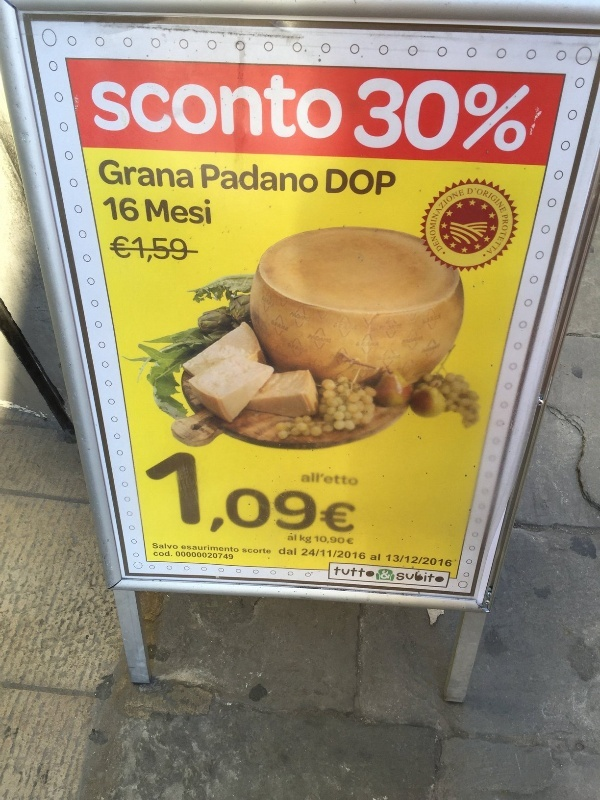text: (161, 450, 176, 534), (177, 450, 192, 534), (193, 450, 208, 534), (209, 450, 224, 534), (225, 450, 240, 534), (241, 450, 256, 534), (257, 450, 272, 534), (273, 450, 288, 534), (289, 450, 304, 534), (305, 450, 320, 534), (321, 450, 336, 534), (337, 450, 352, 534), (433, 174, 448, 255), (449, 174, 464, 255), (146, 450, 160, 534), (369, 76, 384, 152), (385, 76, 400, 152), (401, 76, 416, 152), (417, 76, 432, 152), (433, 76, 448, 152), (449, 76, 464, 152), (465, 76, 480, 152), (481, 76, 496, 152), (497, 76, 512, 152), (513, 76, 528, 152), (97, 75, 112, 139), (113, 75, 128, 139), (129, 75, 144, 139), (145, 75, 160, 139), (161, 75, 176, 139), (177, 75, 192, 139), (193, 75, 208, 139), (209, 75, 224, 139), (225, 75, 240, 139), (241, 75, 256, 139), (257, 75, 272, 139), (273, 75, 288, 139), (289, 75, 304, 139), (305, 75, 320, 139), (321, 75, 336, 139), (359, 76, 368, 152), (497, 215, 512, 260), (425, 174, 432, 255), (497, 183, 513, 215), (353, 450, 359, 534), (209, 163, 224, 196), (225, 163, 240, 196), (241, 163, 256, 196), (257, 163, 272, 196), (273, 163, 288, 196), (289, 163, 304, 196), (481, 183, 496, 215), (113, 160, 128, 191), (129, 160, 144, 191), (145, 160, 160, 191), (161, 160, 176, 191), (177, 160, 192, 191), (337, 169, 352, 198), (353, 169, 368, 198), (369, 169, 384, 198), (305, 163, 318, 196), (113, 234, 128, 262), (129, 234, 144, 262), (145, 234, 160, 262), (161, 234, 176, 262), (467, 183, 480, 215), (487, 215, 496, 260), (99, 160, 112, 191), (113, 197, 128, 223), (90, 75, 96, 139), (337, 75, 343, 139), (385, 169, 397, 198), (177, 234, 189, 262), (326, 169, 336, 198), (129, 197, 140, 223), (200, 163, 208, 196), (103, 197, 112, 223), (401, 569, 416, 582), (417, 569, 432, 582), (305, 472, 320, 484), (337, 475, 352, 486), (337, 566, 352, 577), (321, 535, 336, 546), (433, 557, 448, 568), (529, 76, 531, 152), (177, 551, 192, 561), (193, 551, 208, 561), (209, 551, 224, 561), (353, 566, 366, 577), (338, 551, 352, 560), (386, 553, 400, 562), (325, 475, 336, 486), (321, 549, 336, 557), (193, 545, 208, 553), (209, 545, 224, 553), (353, 551, 366, 560), (108, 234, 112, 262), (225, 545, 239, 553), (161, 543, 176, 550), (305, 548, 316, 557), (405, 555, 416, 564), (371, 554, 384, 561), (225, 551, 234, 561), (337, 535, 345, 546), (424, 557, 432, 568), (420, 557, 432, 564), (257, 548, 271, 554), (465, 174, 466, 255), (182, 545, 192, 553), (243, 548, 256, 554), (279, 547, 288, 555), (161, 551, 173, 557), (289, 547, 297, 555), (193, 160, 195, 191), (305, 534, 311, 544), (289, 534, 297, 541), (353, 475, 358, 486), (315, 535, 320, 546), (385, 570, 391, 579), (153, 543, 160, 550), (153, 551, 160, 557), (300, 534, 304, 544), (347, 537, 352, 545), (433, 569, 436, 582), (321, 472, 324, 484), (449, 557, 452, 568), (381, 570, 384, 579), (398, 569, 400, 582), (302, 472, 304, 484), (401, 555, 404, 563), (334, 566, 336, 577), (317, 549, 320, 556), (333, 551, 336, 558), (302, 548, 304, 557), (417, 555, 419, 564), (177, 543, 178, 550)
